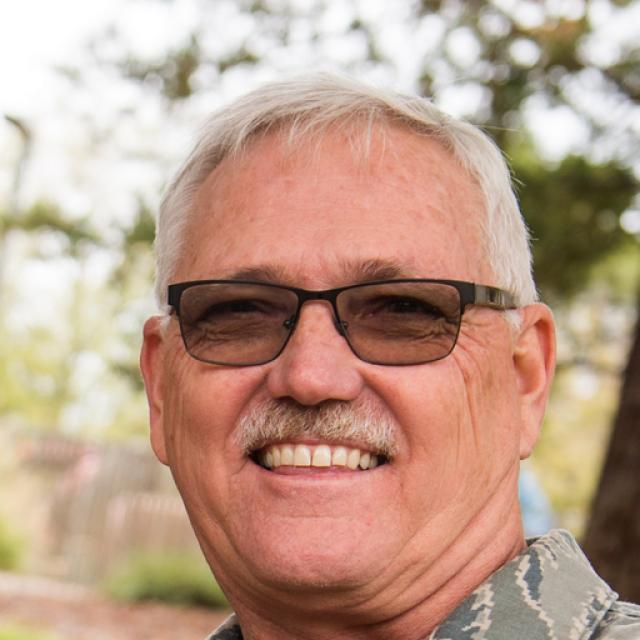happy: (162, 139, 518, 589)
